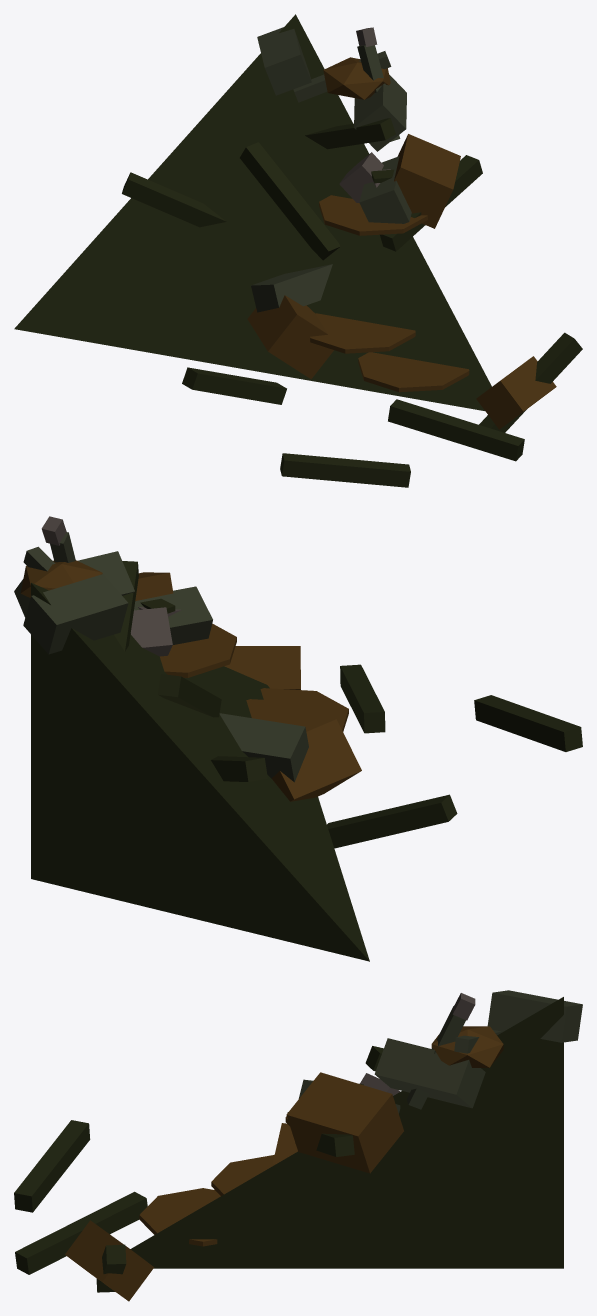
The model's file is SM_PilaZombi_RemateIzq_Altura3_s1_LOD0.fbx.
3 views of the same model, one above another, from view 1: azimuth 30°, elevation 25°; view 2: azimuth 150°, elevation 25°; view 3: azimuth 270°, elevation 25° (orthographic). The views are drawn at different scales.
Parts seen in each view (by area): view 1: SM_pila_zombis_v7_LOD0; view 2: SM_pila_zombis_v7_LOD0; view 3: SM_pila_zombis_v7_LOD0.
Boxes of the visible parts, <box> form: SM_pila_zombis_v7_LOD0: <box>14,14,582,487</box>; SM_pila_zombis_v7_LOD0: <box>14,516,582,961</box>; SM_pila_zombis_v7_LOD0: <box>14,990,582,1301</box>.
Bounding box in the file's own units: 2.64 × 2 × 3.22.
